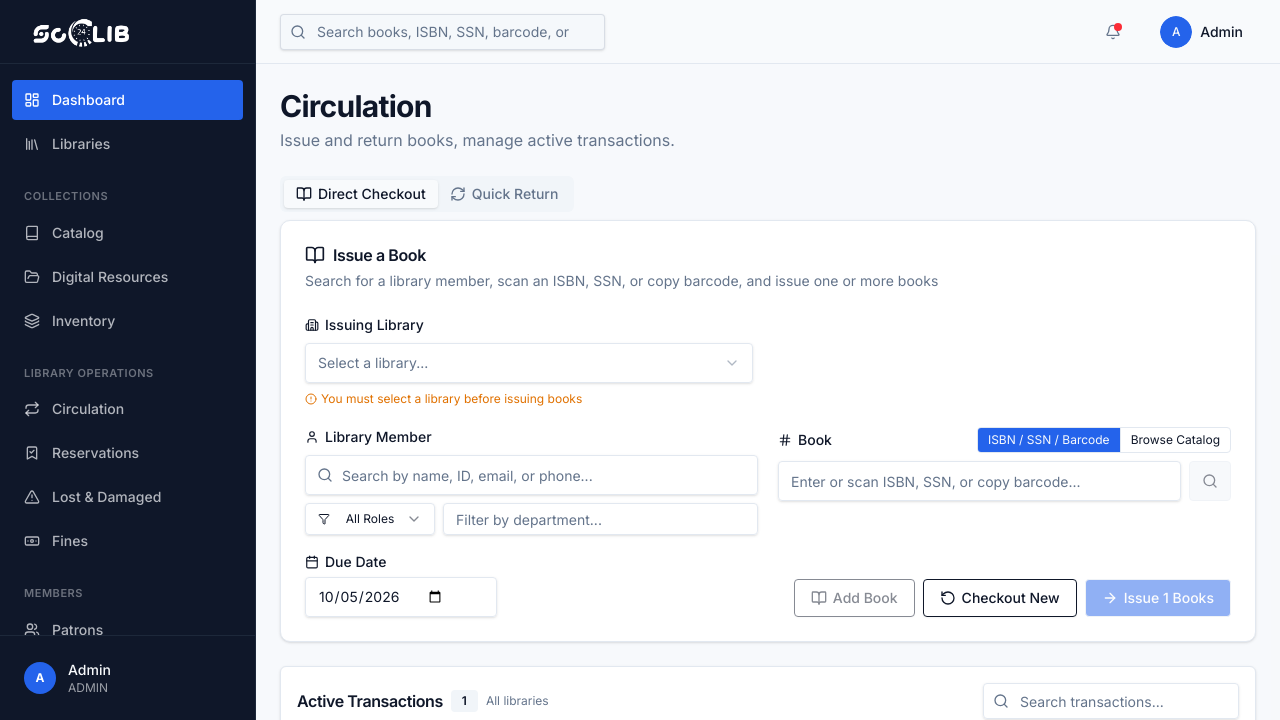
CirculationPage checkout › looks up an SSN-specific active checkout and displays its borrower and fine information
Click the tab with test id "tab-return" at (504, 194), box left=438, top=180, right=570, bottom=208
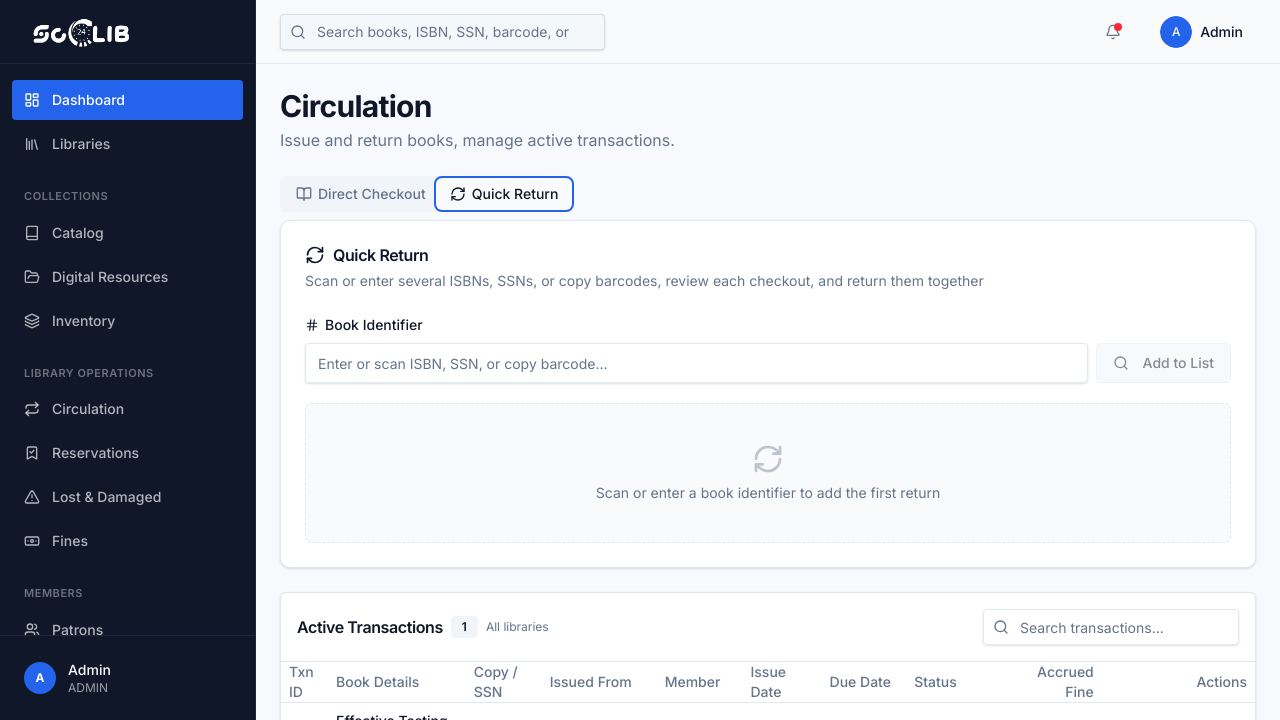
Type "SSN-8" into the field with test id "input-return-isbn" at (696, 363), box left=305, top=343, right=1088, bottom=383
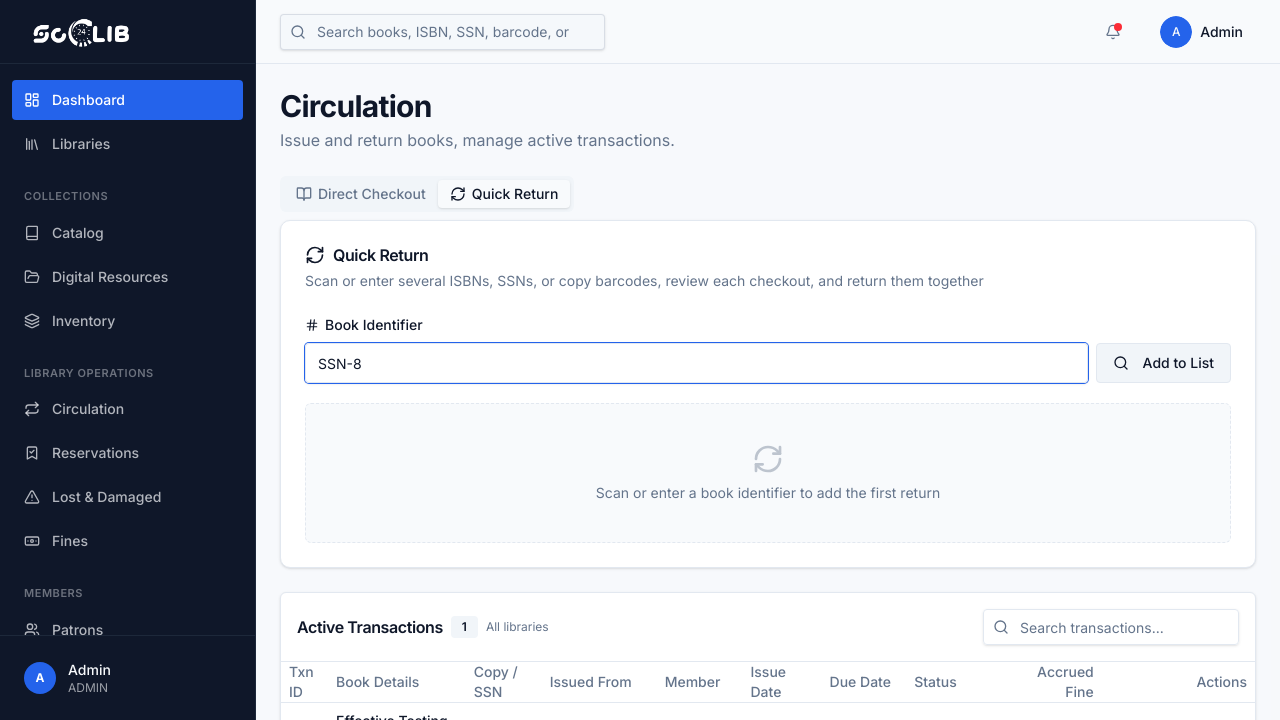
Press Enter
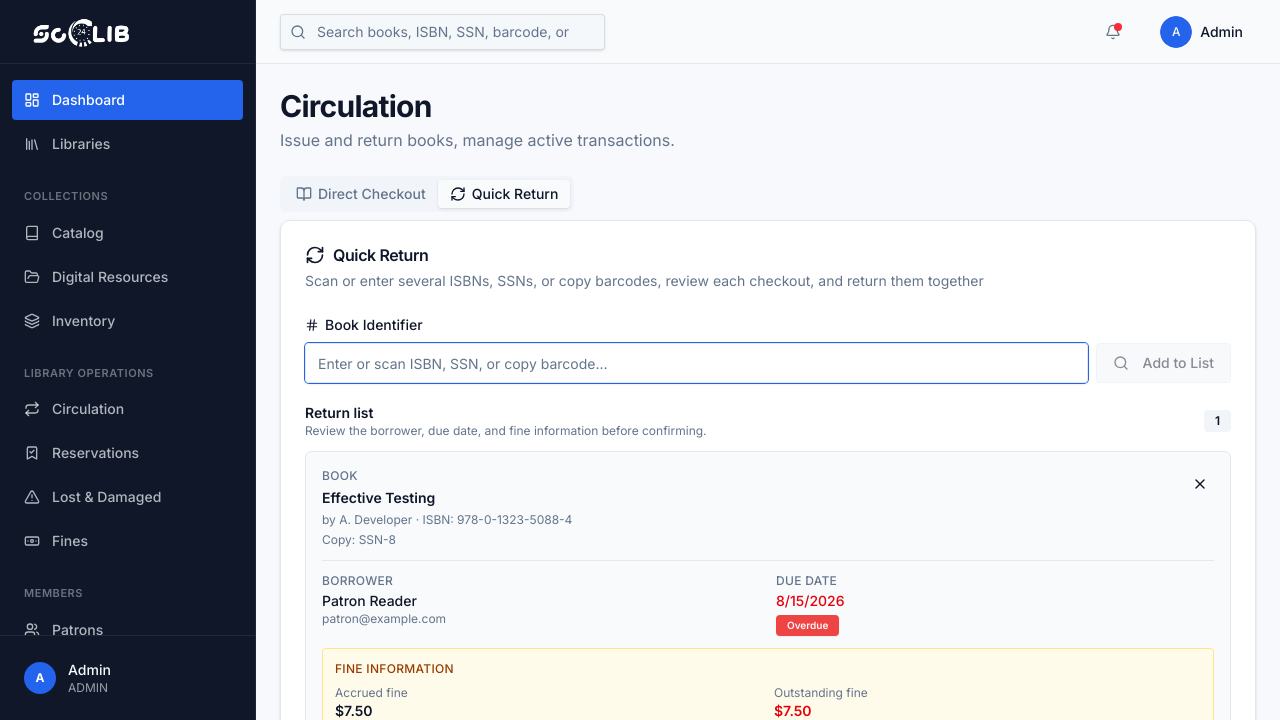
Expected: the text "Patron Reader" is shown, left=322, top=592, right=417, bottom=609
Expected: the text "Fine information" is shown, left=335, top=661, right=454, bottom=676
Expected: the 1st text "$7.50" is shown, left=335, top=702, right=373, bottom=719
